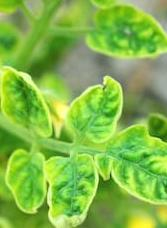Tomato leaf yellow virus: (87, 0, 167, 69), (99, 130, 167, 209), (42, 144, 104, 228), (68, 72, 131, 149), (0, 57, 46, 143)
